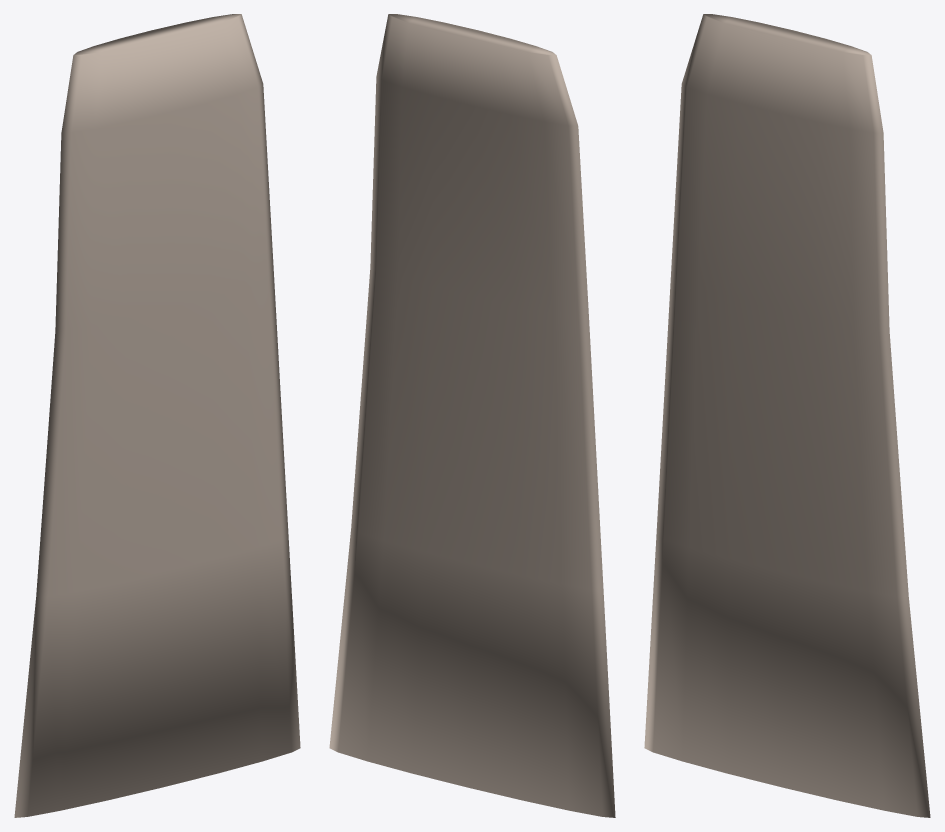
File: cape.glb
The picture shows the model from 3 angles, left to right: view 1: azimuth 30°, elevation 25°; view 2: azimuth 150°, elevation 25°; view 3: azimuth 330°, elevation 25°; orthographic projection.
Visible parts, largest first — view 1: Cape; view 2: Cape; view 3: Cape.
Part boxes in pixels (x1,y1,x2,y2): Cape: (14, 14, 300, 817); Cape: (329, 14, 615, 817); Cape: (644, 14, 930, 817).
Size of the model in its own units: 0.34 by 0.85 by 0.039.
